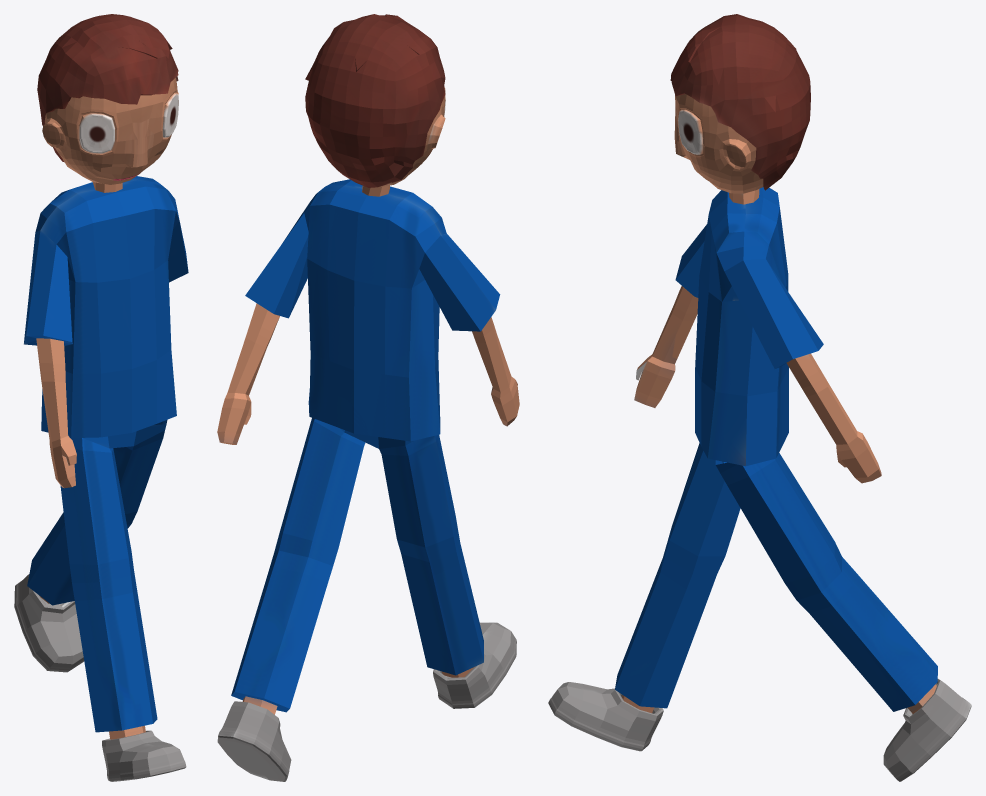
File: NewCharacter8.fbx
The picture shows the model from 3 angles, left to right: view 1: azimuth 30°, elevation 25°; view 2: azimuth 150°, elevation 25°; view 3: azimuth 270°, elevation 25°; orthographic projection. The views are drawn at different scales.
Parts seen in each view (by area): view 1: LowPoly; view 2: LowPoly; view 3: LowPoly.
Boxes of the visible parts, bbox=[...] form: LowPoly: bbox=[14, 14, 188, 781]; LowPoly: bbox=[217, 14, 519, 781]; LowPoly: bbox=[548, 14, 971, 781].
Bounding box in the file's own units: 114 × 383 × 199.
1 material, 1 textured.
